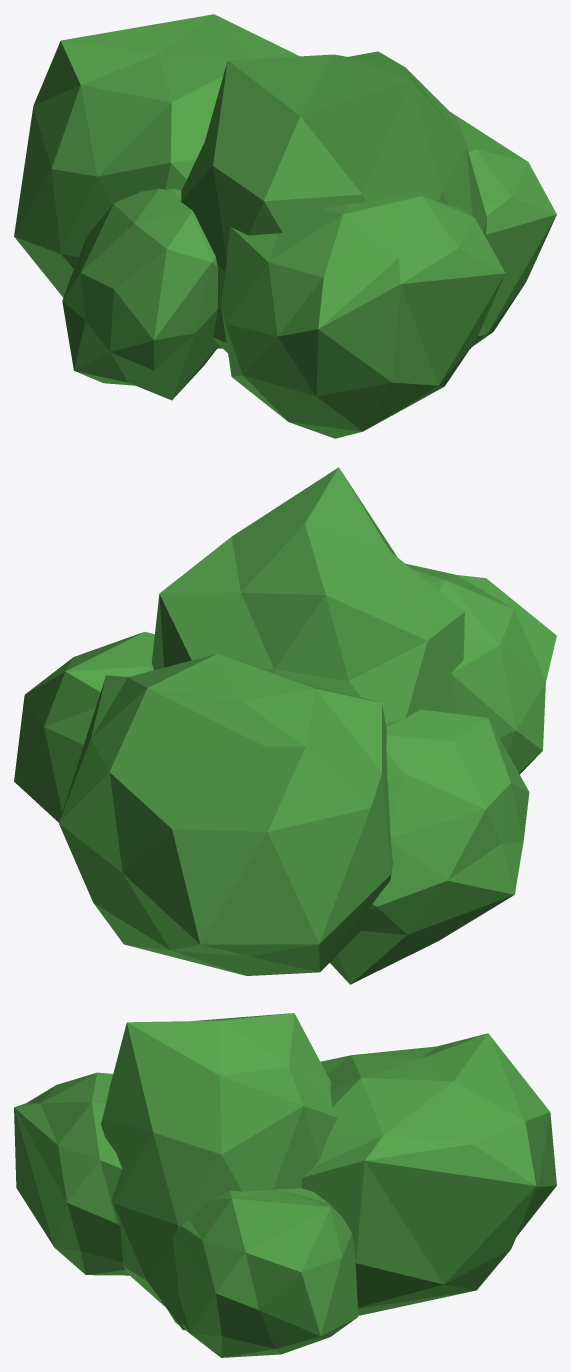
File: Bush.fbx
3 renders of one model, top to bottom at view 1: azimuth 30°, elevation 25°; view 2: azimuth 150°, elevation 25°; view 3: azimuth 270°, elevation 25°, orthographic. The views are drawn at different scales.
Visible parts, largest first — view 1: Icosphere.001; view 2: Icosphere.001; view 3: Icosphere.001.
Boxes of the visible parts, x1=… form: Icosphere.001: x1=14, y1=14, x2=556, y2=438; Icosphere.001: x1=14, y1=467, x2=556, y2=984; Icosphere.001: x1=14, y1=1013, x2=556, y2=1357.
Bounding box in the file's own units: 267 × 205 × 323.
